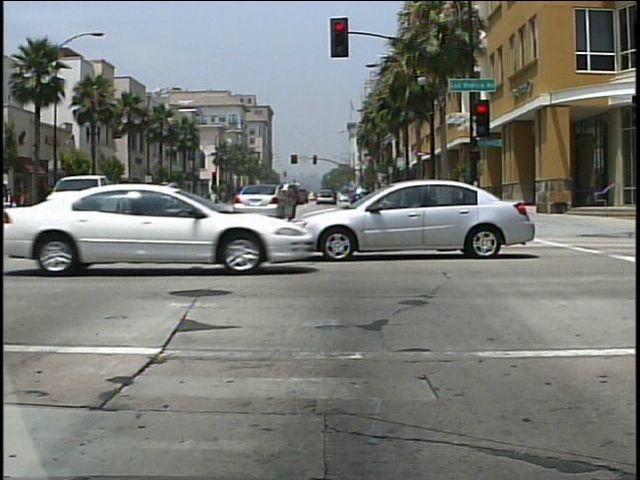person: (1, 176, 23, 232)
